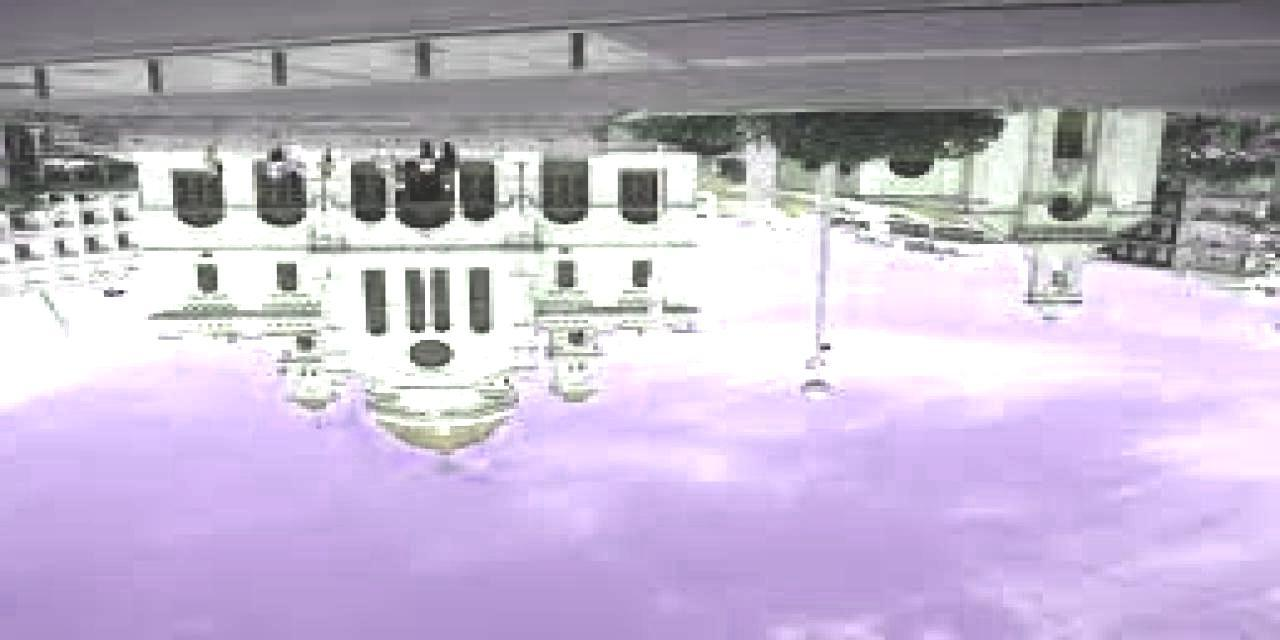Agios Minas: (128, 149, 697, 472)
